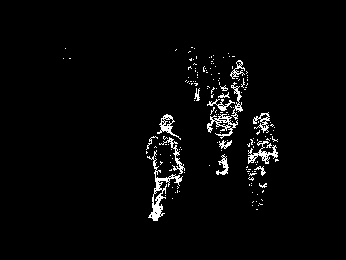person: (147, 110, 187, 223), (245, 107, 283, 213), (207, 88, 239, 183), (231, 54, 250, 113)
